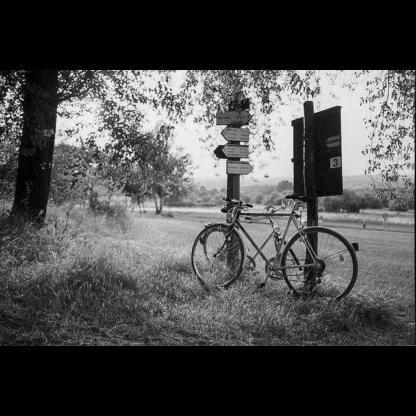Bicycle: (183, 184, 373, 311)
